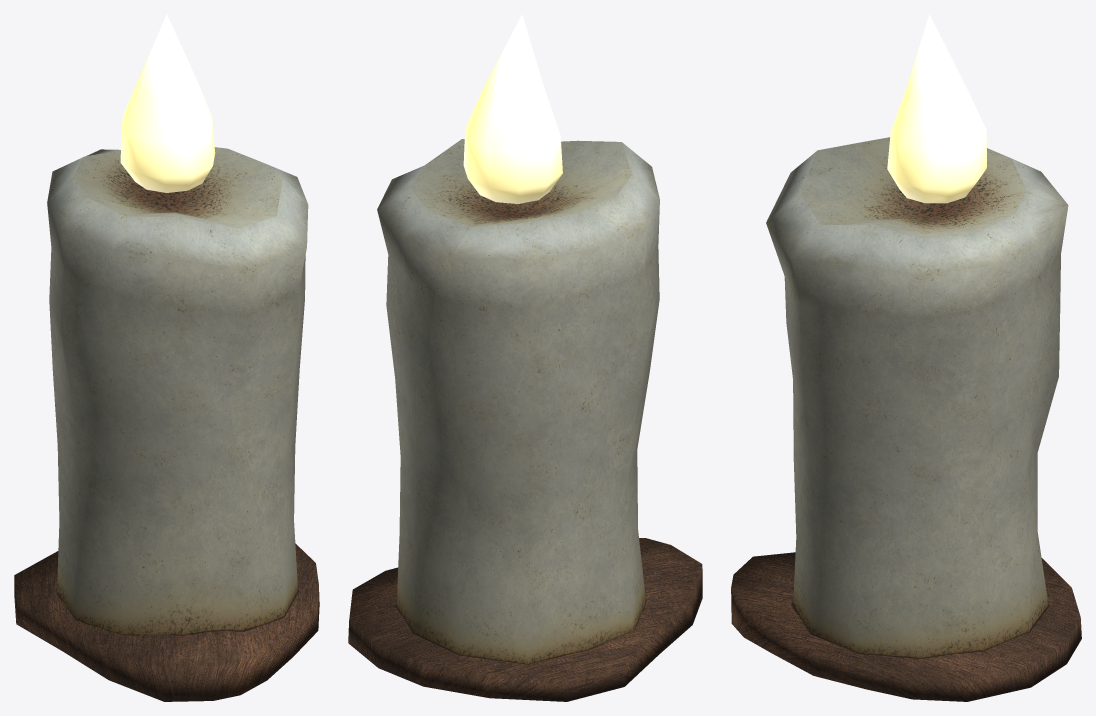
File: candle1.gltf
3 views of the same model, side by side, from view 1: azimuth 30°, elevation 25°; view 2: azimuth 150°, elevation 25°; view 3: azimuth 270°, elevation 25° (orthographic). The views are drawn at different scales.
Parts seen in each view (by area): view 1: candle1; view 2: candle1; view 3: candle1.
Part boxes in pixels (box(x1,y1,x2,y2)): candle1: box(14, 14, 319, 701); candle1: box(348, 14, 702, 701); candle1: box(731, 14, 1081, 701).
Bounding box in the file's own units: 0.4137 × 0.8855 × 0.4532.
2 materials, 1 textured.
